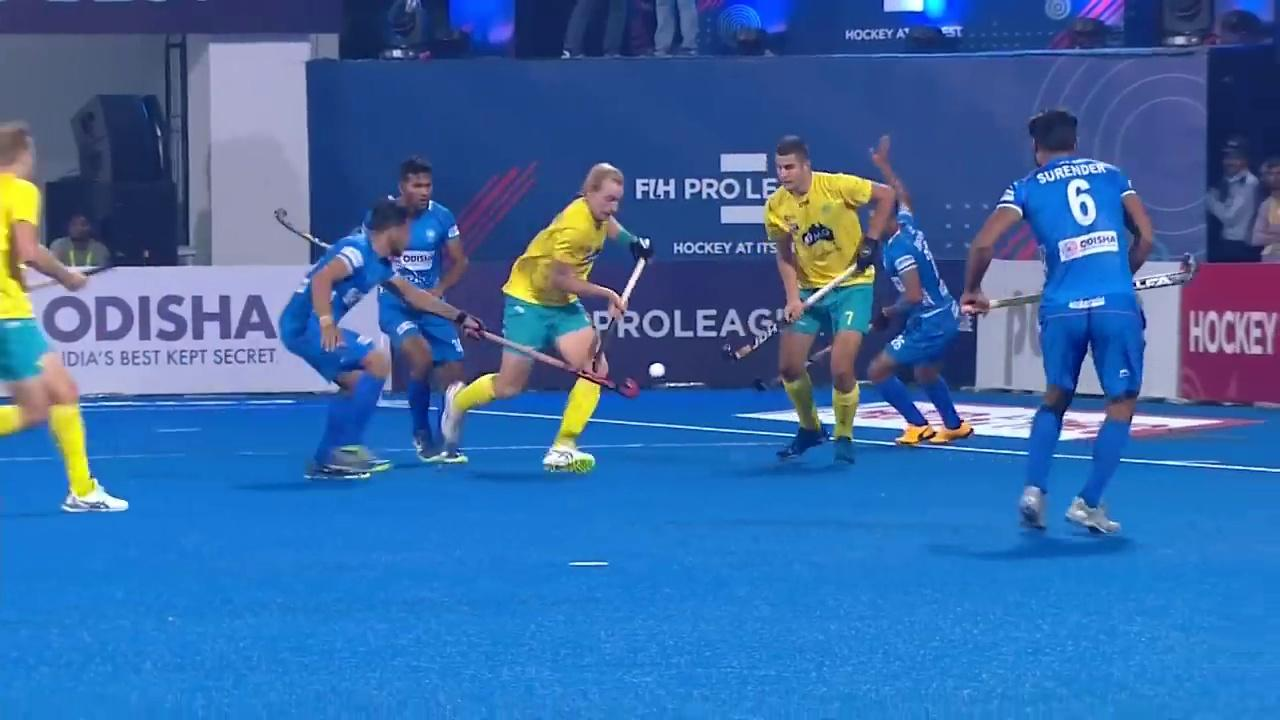ball: (639, 355, 674, 386)
